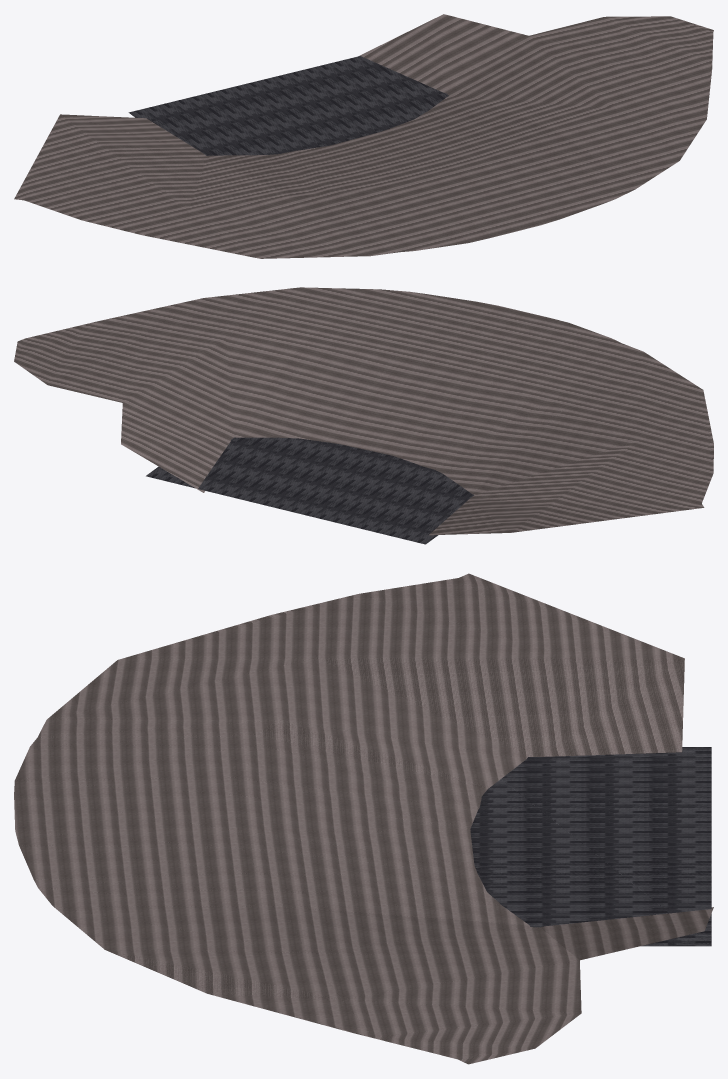
Rendered from 1stFloorauditorium.fbx.
3 views of the same model, one above another, from view 1: azimuth 30°, elevation 25°; view 2: azimuth 150°, elevation 25°; view 3: azimuth 270°, elevation 25° (orthographic). The views are drawn at different scales.
Visible parts, largest first — view 1: floorauditorium, Floor_Audi; view 2: floorauditorium, Floor_Audi; view 3: floorauditorium, Floor_Audi.
Boxes of the visible parts, x1,y1,x2,y2 form: floorauditorium: (14, 14, 713, 258); Floor_Audi: (128, 56, 448, 155); floorauditorium: (14, 287, 713, 535); Floor_Audi: (146, 437, 473, 544); floorauditorium: (14, 573, 713, 1064); Floor_Audi: (470, 747, 711, 946).
Size of the model in its own units: 2021 by 71.71 by 1223.
